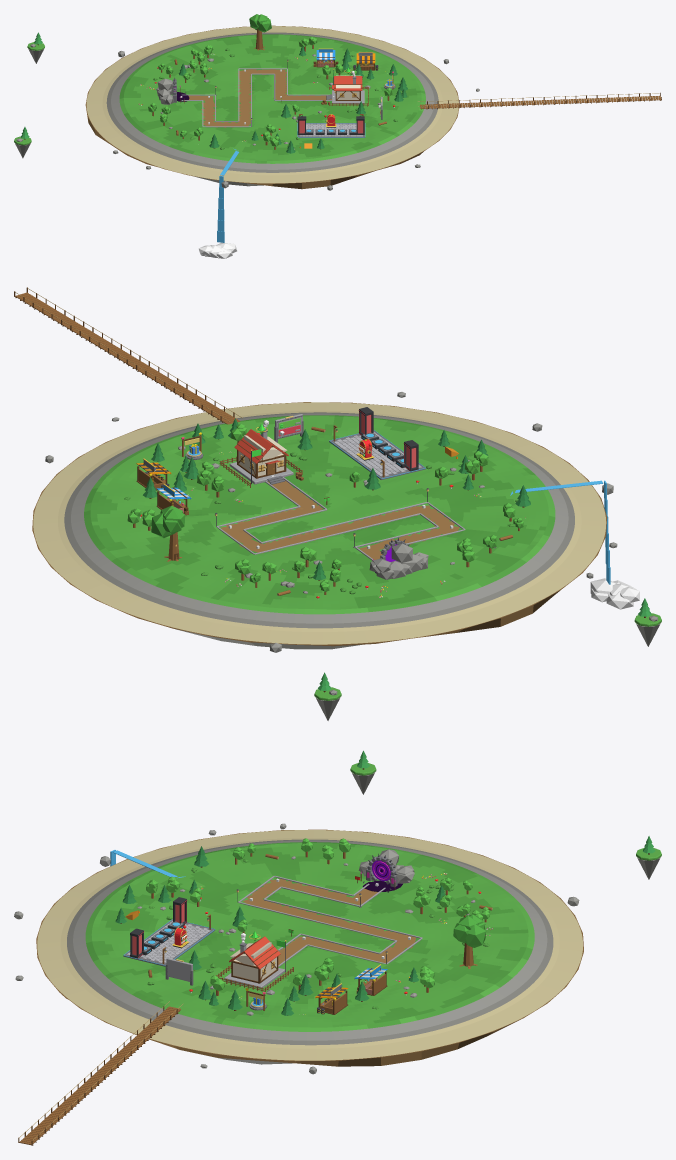
The model's file is Isla2_Bosque.glb.
3 renders of one model, top to bottom at view 1: azimuth 30°, elevation 25°; view 2: azimuth 150°, elevation 25°; view 3: azimuth 270°, elevation 25°, orthographic. The views are drawn at different scales.
Parts seen in each view (by area): view 1: Isla2_Bosque_Terreno, Isla2_Bosque_Base_Flotante, Isla2_Bosque_Casa, Isla2_Bosque_Palanca_Zona, Isla2_Bosque_Detalles_11, Isla2_Bosque_Portal, Puente_2_10, Isla2_Bosque_Monumento, Isla2_Bosque_Detalles_10, Isla2_Bosque_Tienda_Puesto; view 2: Isla2_Bosque_Terreno, Isla2_Bosque_Base_Flotante, Isla2_Bosque_Casa, Isla2_Bosque_Palanca_Zona, Isla2_Bosque_Portal, Isla2_Bosque_Detalles_11, Isla2_Bosque_Monumento, Puente_2_10, Isla2_Bosque_Detalles_10, Isla2_Bosque_Detalles_17, Isla2_Bosque_Detalles_18, Isla2_Bosque_Equipamientos_Puesto; view 3: Isla2_Bosque_Terreno, Isla2_Bosque_Base_Flotante, Isla2_Bosque_Casa, Isla2_Bosque_Palanca_Zona, Isla2_Bosque_Portal, Isla2_Bosque_Monumento, Isla2_Bosque_Equipamientos_Puesto, Puente_2_10, Isla2_Bosque_Tienda_Puesto, Isla2_Bosque_Detalles_18, Isla2_Bosque_Detalles_17, Isla2_Bosque_Mejoras_Marco.
Boxes of the visible parts, x1,y1,x2,y2 form: Isla2_Bosque_Terreno: (86,26,458,183); Isla2_Bosque_Base_Flotante: (85,25,459,189); Isla2_Bosque_Casa: (326,67,368,106); Isla2_Bosque_Palanca_Zona: (297,114,365,137); Isla2_Bosque_Detalles_11: (198,220,237,258); Isla2_Bosque_Portal: (156,77,189,104); Puente_2_10: (418,93,660,106); Isla2_Bosque_Monumento: (249,14,271,50); Isla2_Bosque_Detalles_10: (218,151,238,220); Isla2_Bosque_Tienda_Puesto: (313,48,338,67); Isla2_Bosque_Terreno: (33,402,606,644); Isla2_Bosque_Base_Flotante: (32,402,607,649); Isla2_Bosque_Casa: (219,420,302,487); Isla2_Bosque_Palanca_Zona: (329,407,425,479); Isla2_Bosque_Portal: (369,537,428,579); Isla2_Bosque_Detalles_11: (590,548,639,609); Isla2_Bosque_Monumento: (151,505,185,561); Puente_2_10: (15,288,242,421); Isla2_Bosque_Detalles_10: (515,480,608,602); Isla2_Bosque_Detalles_17: (314,672,341,720); Isla2_Bosque_Detalles_18: (634,598,661,646); Isla2_Bosque_Equipamientos_Puesto: (136,458,171,490); Isla2_Bosque_Terreno: (37,830,582,1060); Isla2_Bosque_Base_Flotante: (36,829,583,1066); Isla2_Bosque_Casa: (216,931,293,991); Isla2_Bosque_Palanca_Zona: (123,897,215,966); Isla2_Bosque_Portal: (358,849,414,892); Isla2_Bosque_Monumento: (453,914,485,968); Isla2_Bosque_Equipamientos_Puesto: (315,983,348,1014); Puente_2_10: (19,1001,183,1140); Isla2_Bosque_Tienda_Puesto: (354,964,387,995); Isla2_Bosque_Detalles_18: (350,750,376,794); Isla2_Bosque_Detalles_17: (636,836,661,879); Isla2_Bosque_Mejoras_Marco: (165,958,193,985).
Bounding box in the file's own units: 231 × 46.64 × 166.
1 material, 1 textured.
